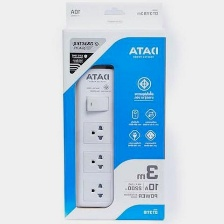book: (61, 0, 168, 220)
three_eye_plug: (71, 59, 120, 213)
